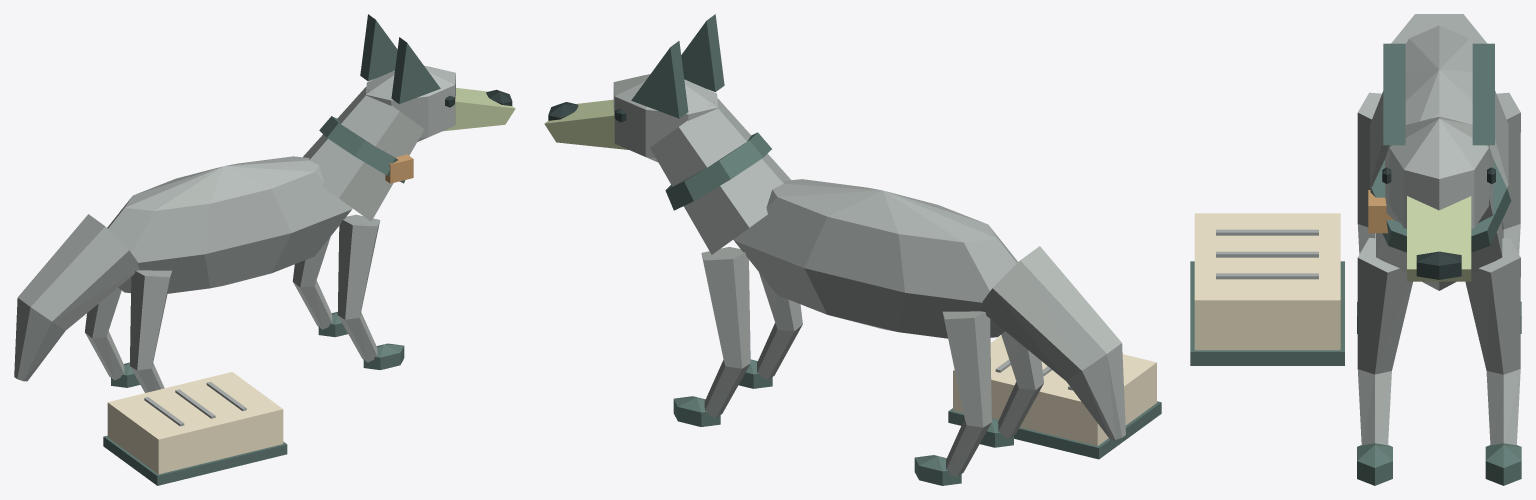
Rendered from yellowstone-wolf-monitoring-asof-2025.8e89ad379d05.glb.
3 views of the same model, side by side, from view 1: azimuth 30°, elevation 25°; view 2: azimuth 150°, elevation 25°; view 3: azimuth 270°, elevation 25° (orthographic). The views are drawn at different scales.
Parts seen in each view (by area): view 1: yellowstone-wolf-monitoring-asof-2025; view 2: yellowstone-wolf-monitoring-asof-2025; view 3: yellowstone-wolf-monitoring-asof-2025.
Boxes of the visible parts, x1,y1,x2,y2 form: yellowstone-wolf-monitoring-asof-2025: (14, 14, 515, 485); yellowstone-wolf-monitoring-asof-2025: (544, 14, 1161, 485); yellowstone-wolf-monitoring-asof-2025: (1190, 14, 1521, 485).
Bounding box in the file's own units: 1 × 0.6157 × 0.4063.
